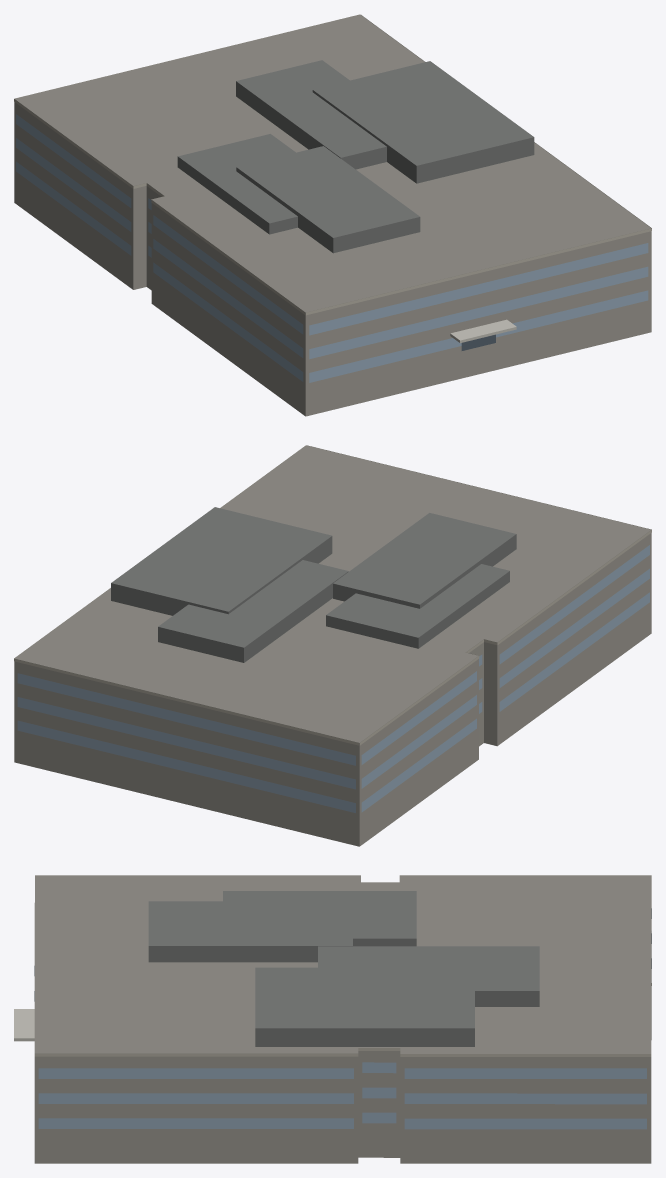
File: government-5436-m2-downtown-bo78808.glb
3 renders of one model, top to bottom at view 1: azimuth 30°, elevation 25°; view 2: azimuth 150°, elevation 25°; view 3: azimuth 270°, elevation 25°, orthographic. The views are drawn at different scales.
Parts seen in each view (by area): view 1: government_5436_m2_downtown_bo78808; view 2: government_5436_m2_downtown_bo78808; view 3: government_5436_m2_downtown_bo78808.
Part boxes in pixels (x1,y1,x2,y2): government_5436_m2_downtown_bo78808: [14, 14, 651, 416]; government_5436_m2_downtown_bo78808: [14, 445, 651, 846]; government_5436_m2_downtown_bo78808: [14, 875, 651, 1163].
Size of the model in its own units: 61.23 by 20.53 by 92.27.
